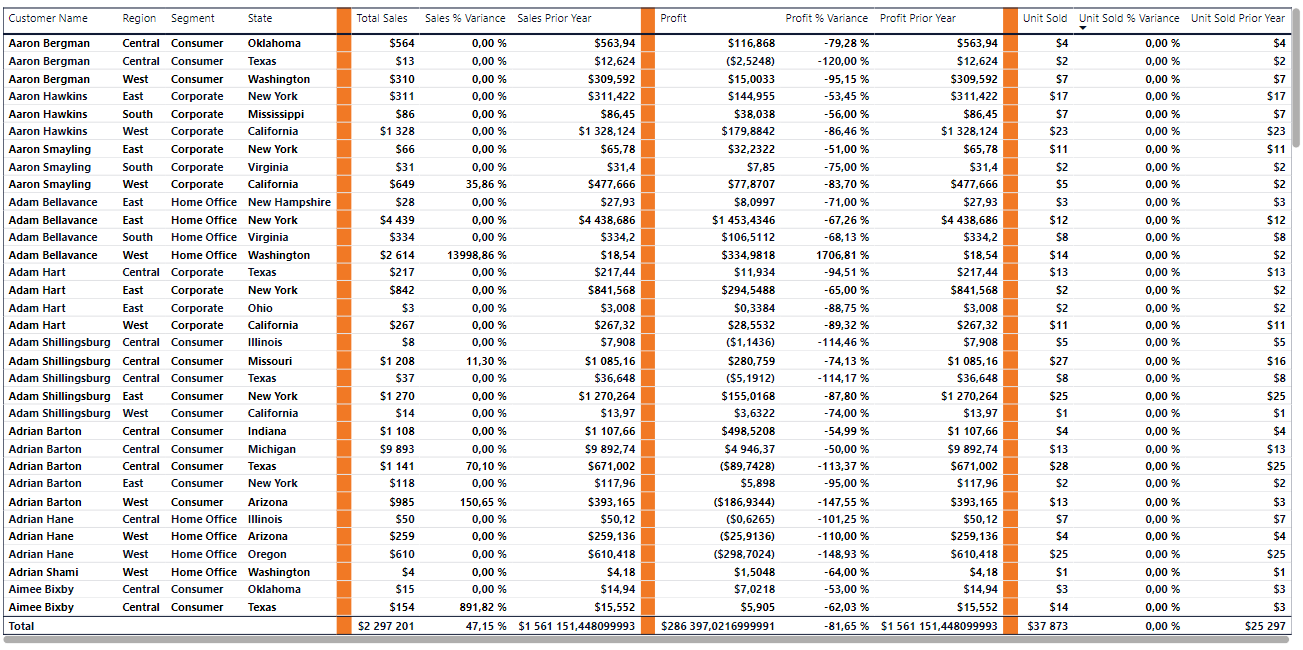

The dashboard page shown, as its layout file describes it:
{"tool":"powerbi","page":{"name":"Page 3","canvas":[1280,720],"ordinal":2},"visuals":[{"type":"tableEx","fields":{"Values":["Orders.Customer Name","Orders.Region","Orders.Segment","Orders.State","Metrics.Blank","Metrics.Total Sales","Metrics.Sales % Variance","Metrics.Sales Prior Year","Metrics.Blank","Metrics.Profit","Metrics.Profit % Variance","Metrics.Profit Prior Year"]},"box":[0,80,1264,624],"z":0}]}

Visuals, with their boxes on the page's 1280x720 design canvas (x1, y1, x2, y2). These are canvas units, not pixel positions in the 1303x650 screenshot, which may show the page scaled, cropped or inside an application window:
tableEx - Orders.Customer Name x Orders.Region: bbox(0, 80, 1264, 704)
